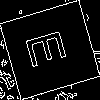E: (24, 25, 76, 70)
